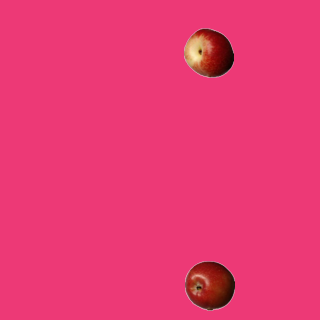Apple Braeburn: (184, 260, 234, 310)
Nectarine: (183, 27, 233, 77)
